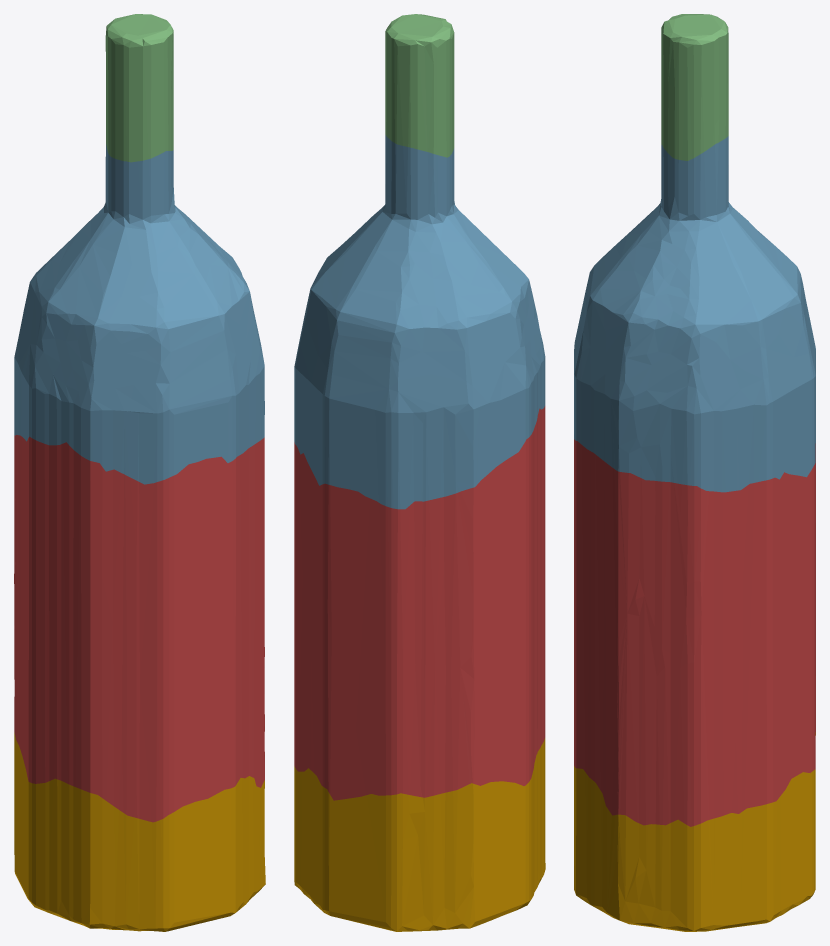
The model's file is mode_3_4pcs.glb.
3 views of the same model, side by side, from view 1: azimuth 30°, elevation 25°; view 2: azimuth 150°, elevation 25°; view 3: azimuth 270°, elevation 25° (orthographic).
Visible parts, largest first — view 1: piece_1.obj, piece_2.obj, piece_0.obj, piece_3.obj; view 2: piece_1.obj, piece_2.obj, piece_0.obj, piece_3.obj; view 3: piece_1.obj, piece_2.obj, piece_0.obj, piece_3.obj.
Part boxes in pixels (bbox=[...]): piece_1.obj: bbox=[14, 435, 264, 822]; piece_2.obj: bbox=[14, 144, 264, 484]; piece_0.obj: bbox=[14, 732, 265, 931]; piece_3.obj: bbox=[105, 14, 173, 162]; piece_1.obj: bbox=[294, 406, 545, 800]; piece_2.obj: bbox=[294, 135, 545, 509]; piece_0.obj: bbox=[294, 738, 545, 931]; piece_3.obj: bbox=[385, 14, 454, 157]; piece_1.obj: bbox=[574, 439, 815, 826]; piece_2.obj: bbox=[574, 136, 815, 492]; piece_0.obj: bbox=[574, 732, 815, 931]; piece_3.obj: bbox=[661, 14, 728, 160].
Bounding box in the file's own units: 0.2657 × 1 × 0.2556.
